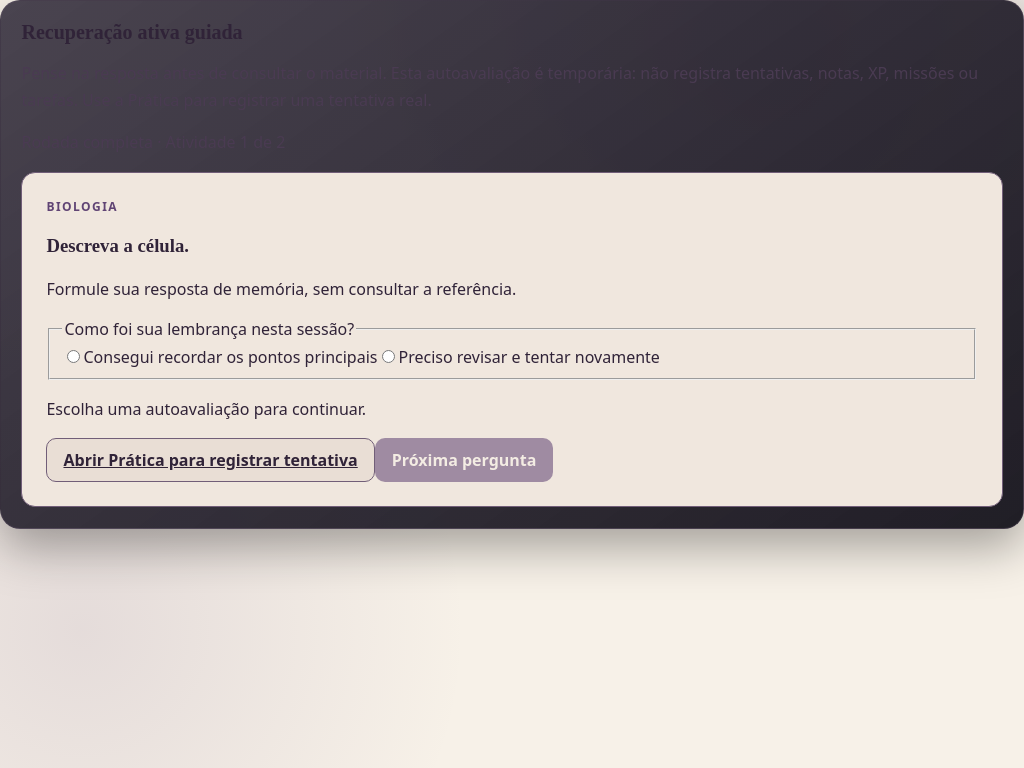
Test: GuidedRecallSession › keeps ratings ephemeral and supports going back, finishing and restarting
The image size is (1024, 768).
Click the radio button labelled "Preciso revisar e tentar novamente" at [389, 356], box [382,350,396,363]
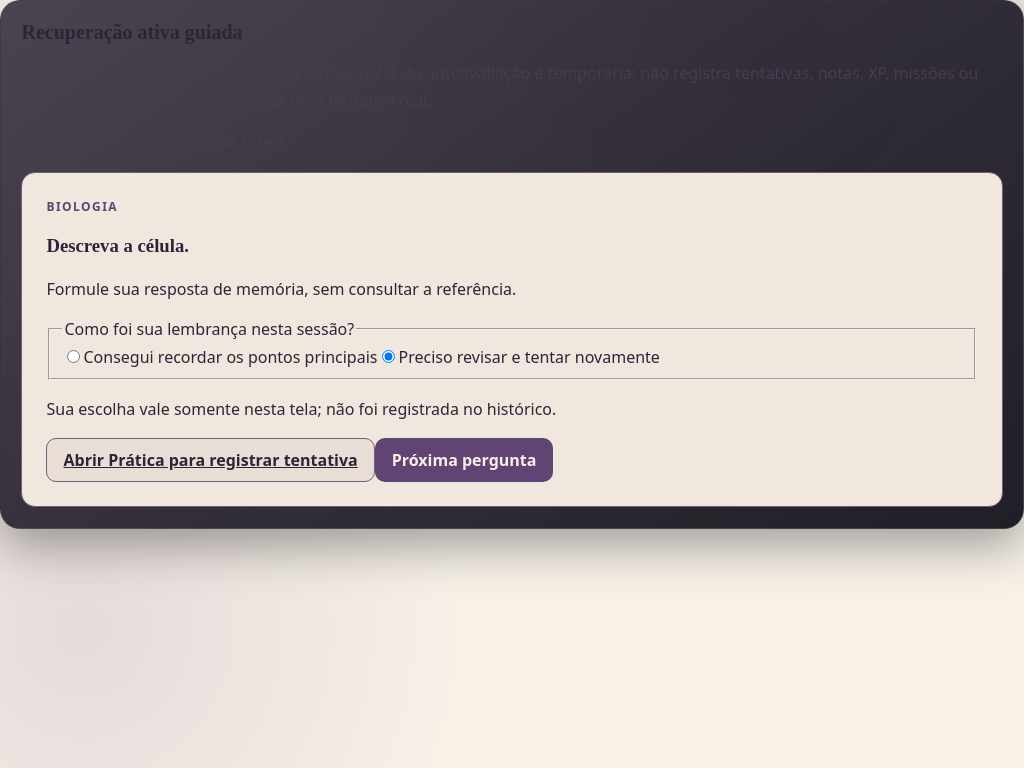
Check: the text "não foi registrada no histórico" is shown, box [46,398,556,420]
Click the button "Próxima pergunta" at [464, 460], box [375,438,554,482]
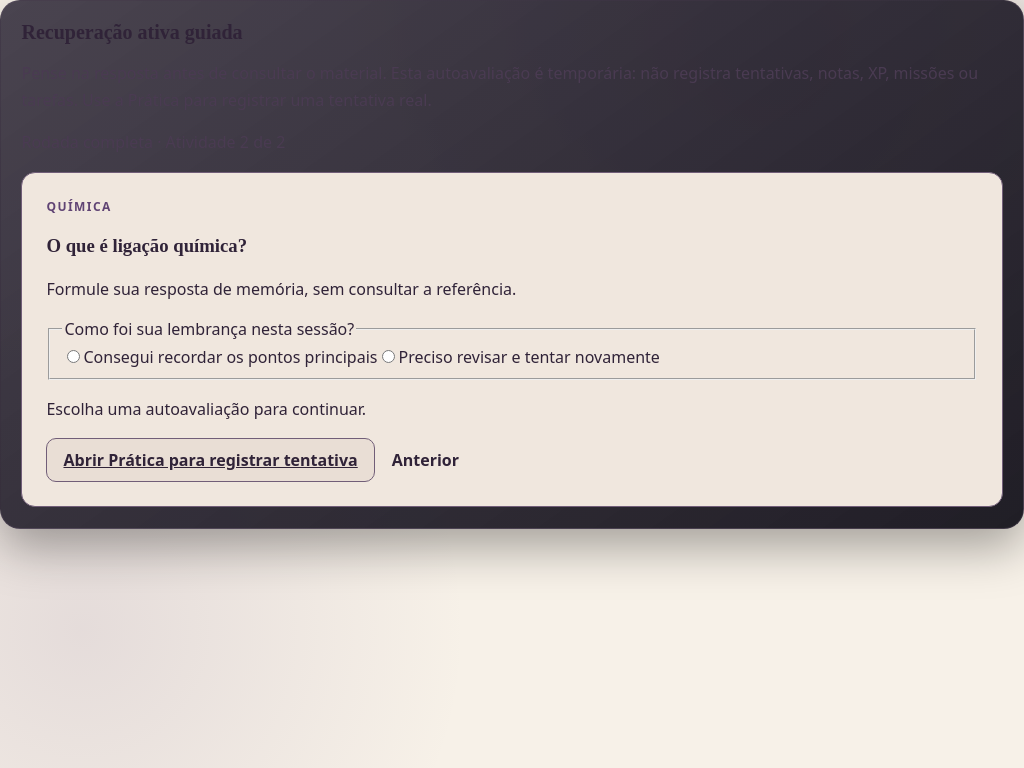
Check: the heading "O que é ligação química?" is shown, box [46,235,247,256]
Check: the button "Próxima pergunta" is gone
Click the button "Anterior" at [425, 460], box [375,438,476,482]
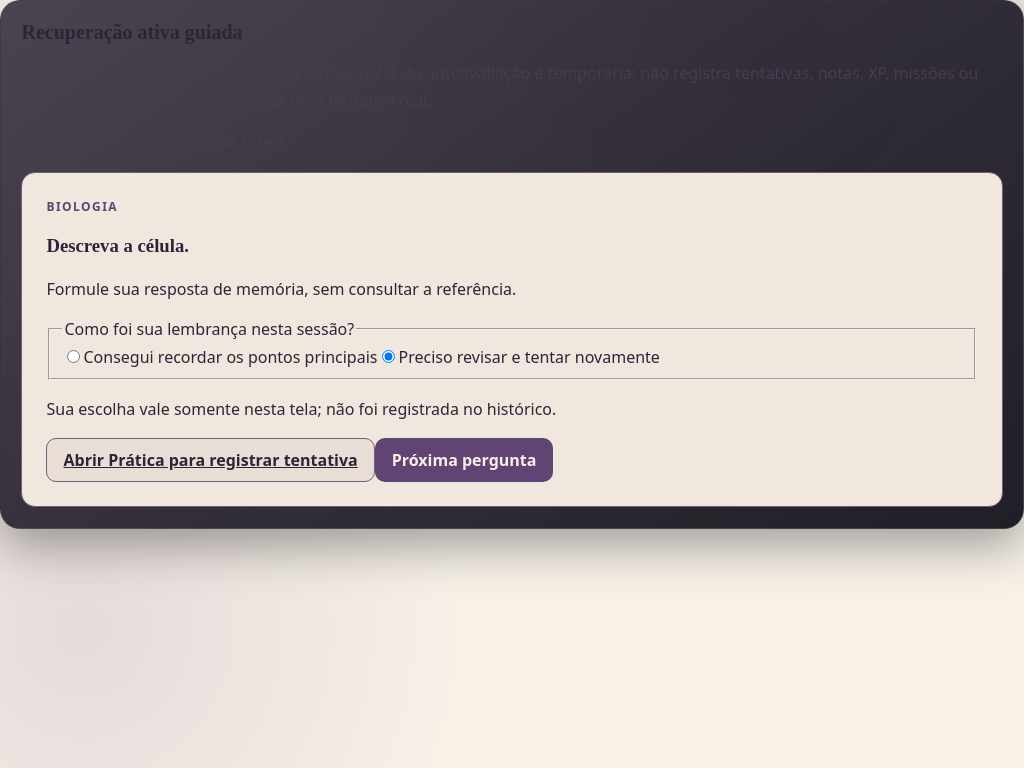
Check: the radio button labelled "Preciso revisar e tentar novamente" is checked, box [382,350,396,363]
Click the button "Próxima pergunta" at [464, 460], box [375,438,554,482]
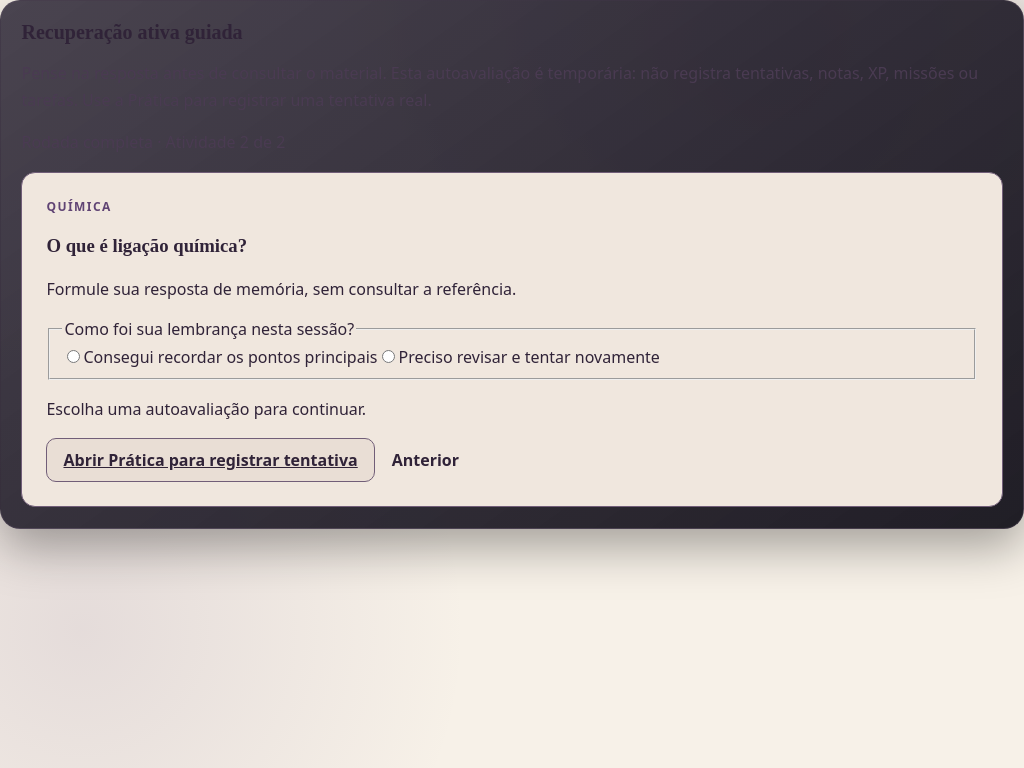
Click the radio button labelled "Consegui recordar os pontos principais" at [74, 356], box [68,350,80,363]
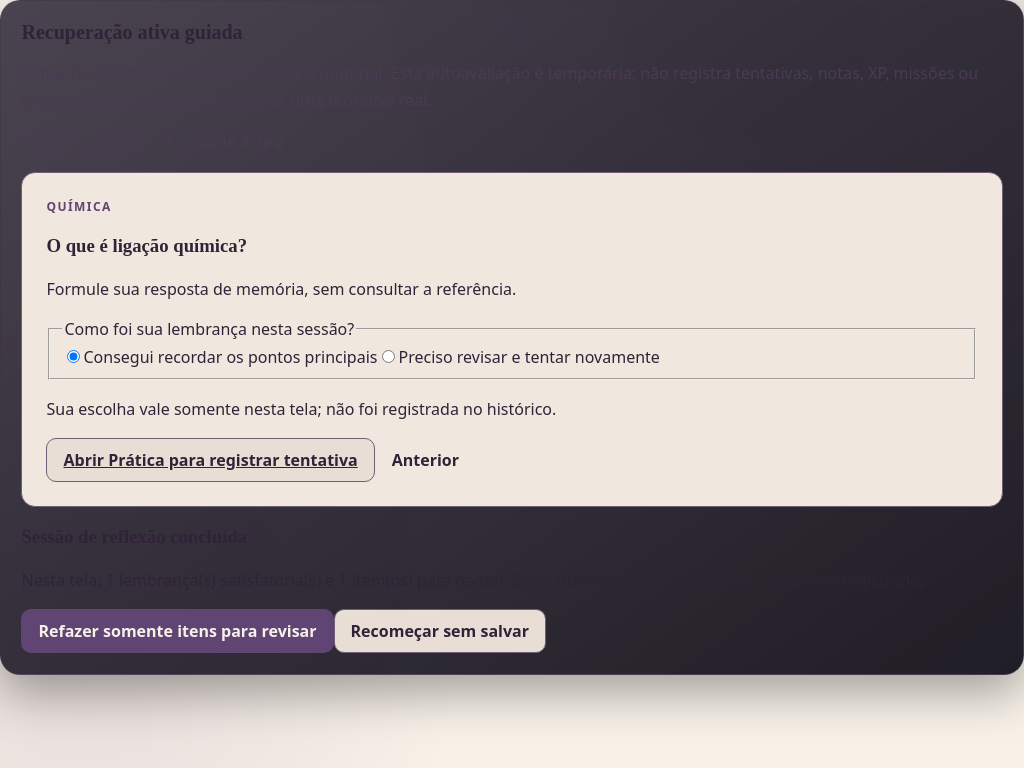
Click the button "Recomeçar sem salvar" at [440, 631], box [334,609,546,653]
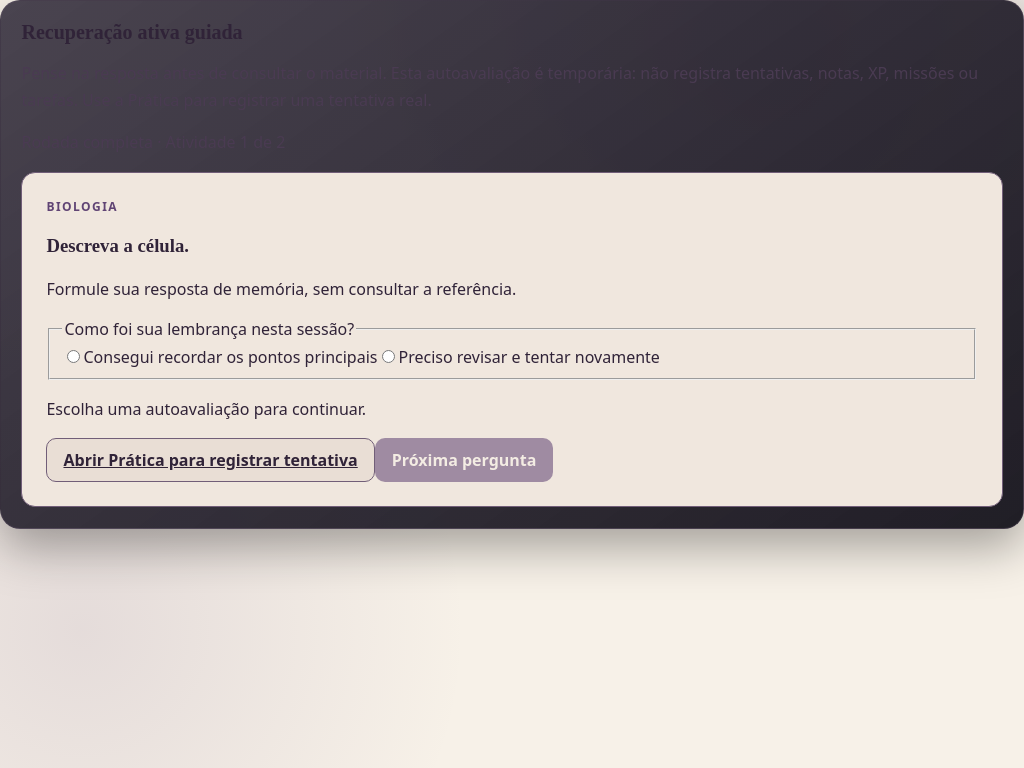
Check: the heading "Descreva a célula." is shown, box [46,235,189,256]
Check: the button "Próxima pergunta" is disabled, box [375,438,554,482]
Check: the heading "Sessão de reflexão concluída" is gone
